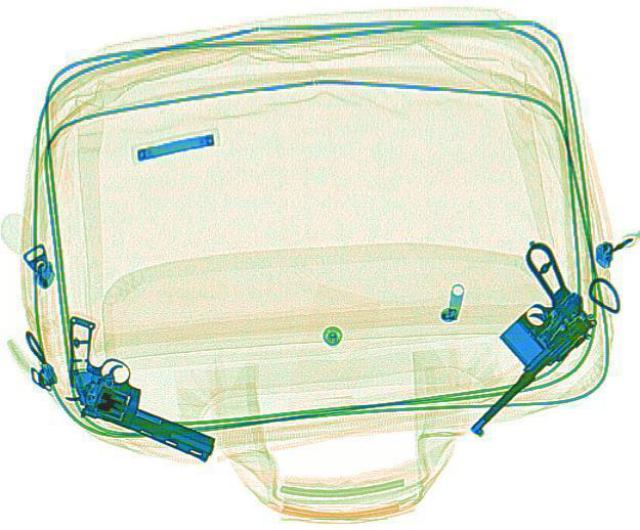Gun: (380, 235, 630, 435), (15, 310, 257, 463)
